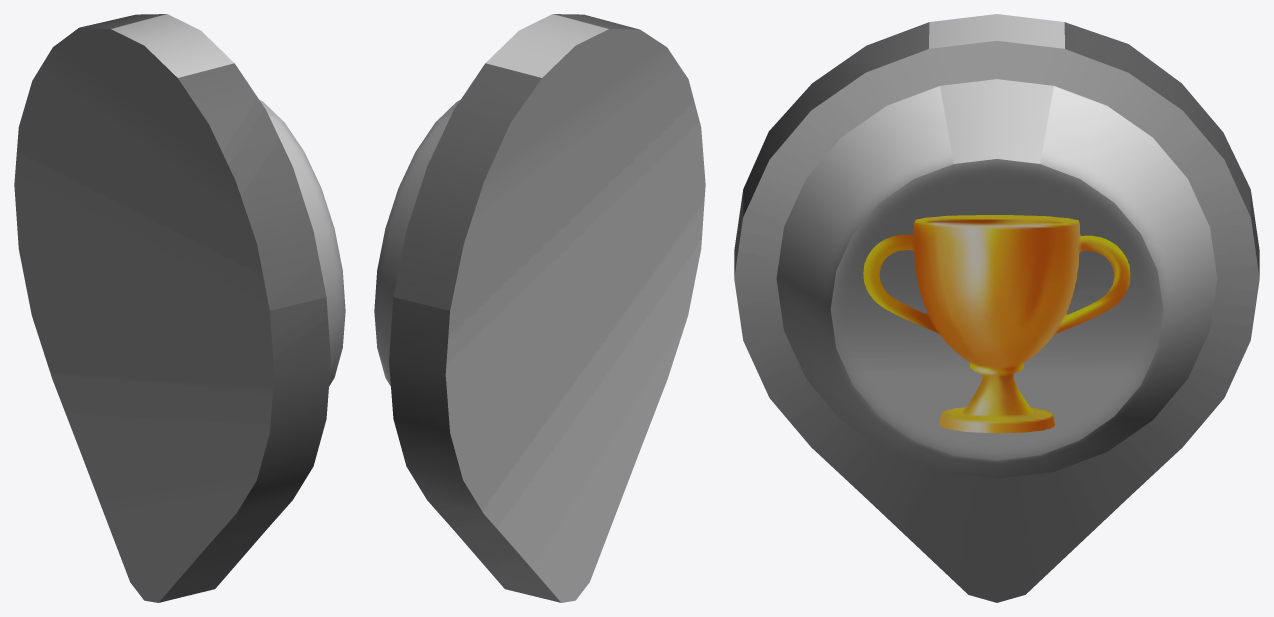
Rendered from MapPinNew.fbx.
3 renders of one model, left to right at view 1: azimuth 30°, elevation 25°; view 2: azimuth 150°, elevation 25°; view 3: azimuth 270°, elevation 25°, orthographic.
Parts seen in each view (by area): view 1: MapPin; view 2: MapPin; view 3: MapPin, MapPin_Icon.
Boxes of the visible parts, x1=… form: MapPin: x1=14, y1=14, x2=345, y2=602; MapPin: x1=374, y1=14, x2=705, y2=602; MapPin: x1=734, y1=14, x2=1259, y2=602; MapPin_Icon: x1=863, y1=215, x2=1130, y2=433.
Bounding box in the file's own units: 32 × 141 × 119.
